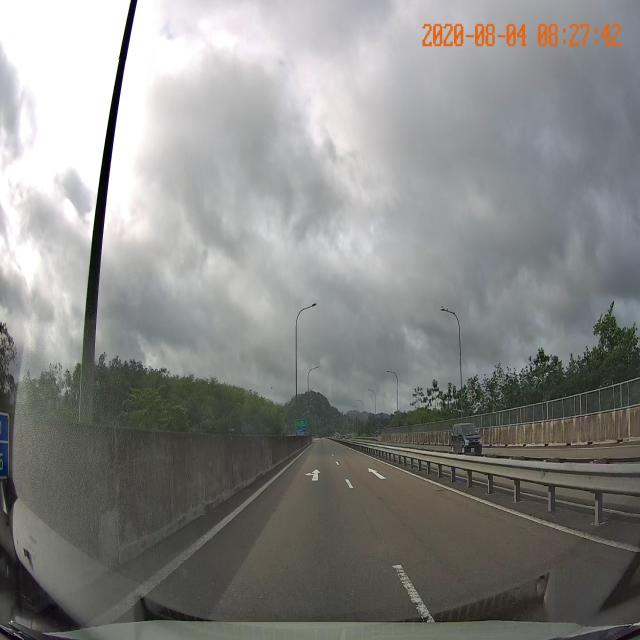forward_lft: (259, 460, 360, 496)
